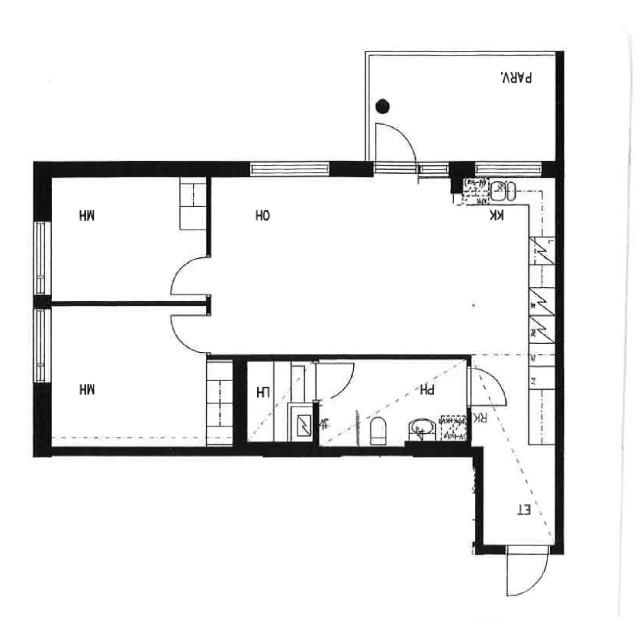door: (502, 542, 551, 599), (369, 119, 419, 173), (164, 248, 214, 296), (464, 362, 511, 413), (166, 306, 213, 353), (308, 357, 358, 401)
window: (25, 302, 55, 390), (26, 216, 56, 304), (244, 156, 336, 179), (466, 158, 546, 178), (416, 157, 453, 179)
zone: (210, 169, 557, 356), (40, 301, 228, 450), (45, 172, 210, 304), (466, 357, 560, 551), (315, 358, 467, 446), (242, 357, 318, 446), (502, 543, 552, 599)
